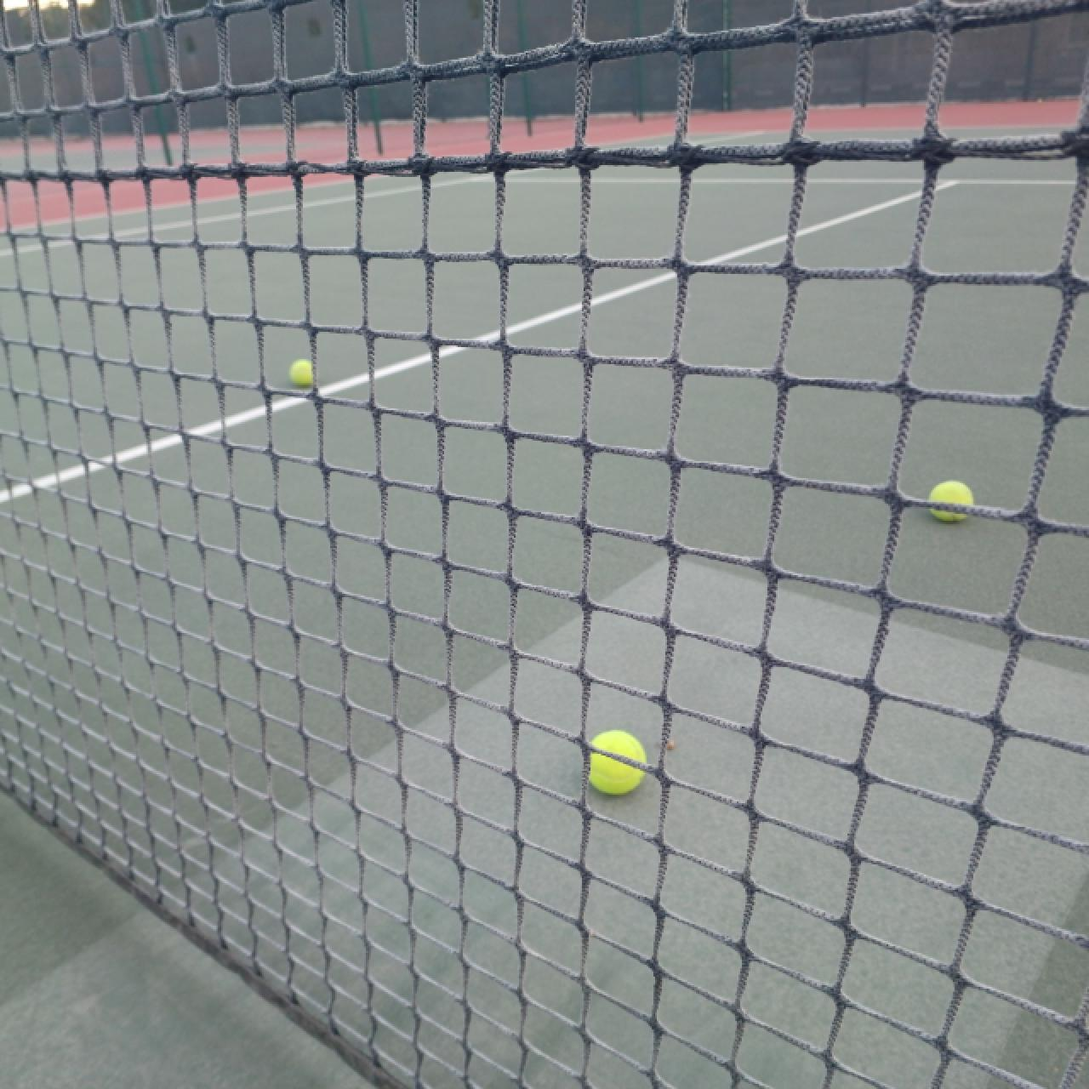tennis-ball: (584, 729, 647, 796), (927, 480, 975, 523), (288, 358, 317, 388)
